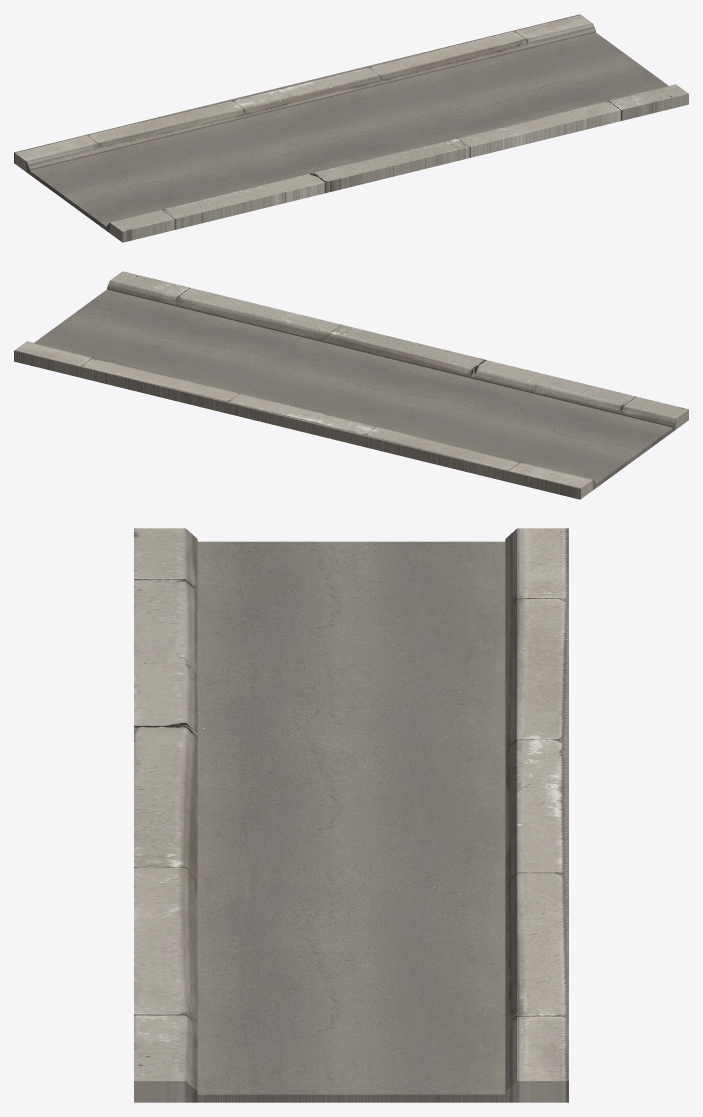
The model's file is MainRoad.fbx.
The picture shows the model from 3 angles, top to bottom: view 1: azimuth 30°, elevation 25°; view 2: azimuth 150°, elevation 25°; view 3: azimuth 270°, elevation 25°; orthographic projection. The views are drawn at different scales.
Parts seen in each view (by area): view 1: Cube.002; view 2: Cube.002; view 3: Cube.002.
Boxes of the visible parts, <box> form: Cube.002: <box>14,14,688,242</box>; Cube.002: <box>14,271,688,499</box>; Cube.002: <box>134,528,568,1102</box>.
Bounding box in the file's own units: 4125 × 75.21 × 1371.
